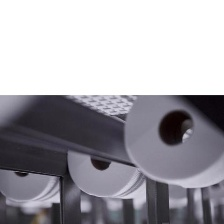tissue: (118, 95, 223, 193), (62, 146, 148, 204), (0, 164, 75, 208)
